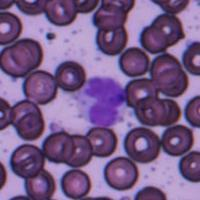M: (74, 74, 126, 128)
